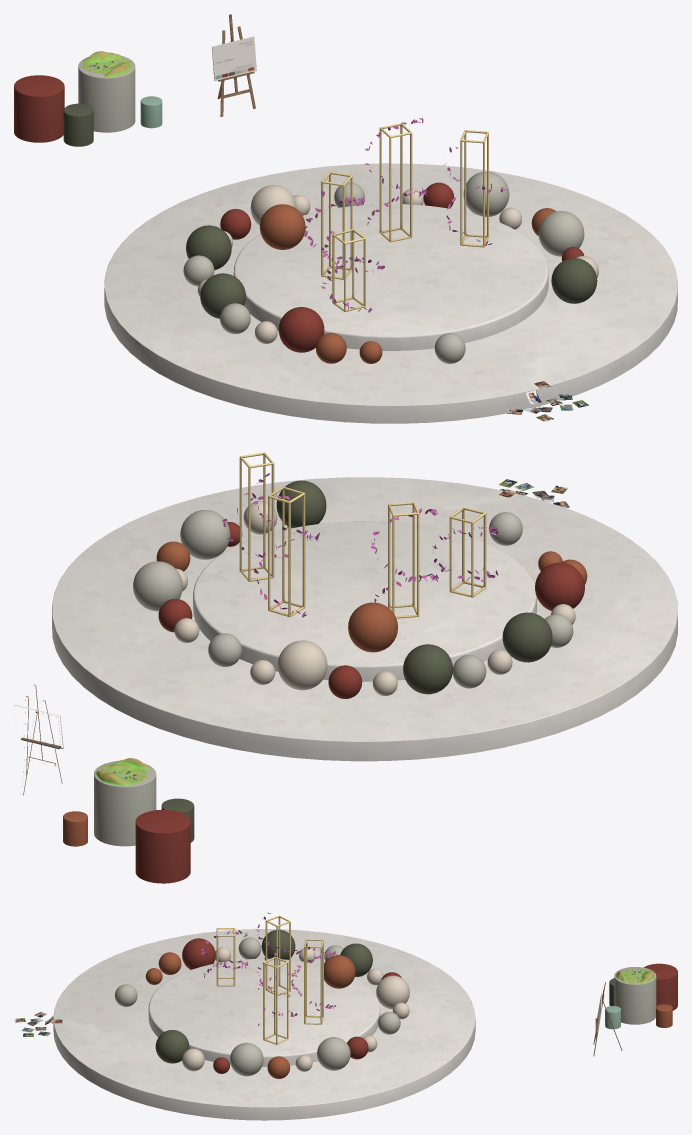
The model's file is VrodeOno-transformed.glb.
The picture shows the model from 3 angles, top to bottom: view 1: azimuth 30°, elevation 25°; view 2: azimuth 150°, elevation 25°; view 3: azimuth 270°, elevation 25°; orthographic projection. The views are drawn at different scales.
Parts seen in each view (by area): view 1: Mainstage.001, Drokino.001, SphereGreen.001, Golden.001, SphereDarkGreen.001, SphereRed.001, SphereOrange.001, SphereNejno.001, Malbert.001, Flowers1.001, Photo1.001; view 2: Mainstage.001, Drokino.001, SphereGreen.001, Golden.001, SphereDarkGreen.001, SphereNejno.001, SphereRed.001, SphereOrange.001, Flowers1.001, Photo1.001; view 3: Mainstage.001, Drokino.001, SphereGreen.001, Golden.001, SphereNejno.001, SphereDarkGreen.001, SphereOrange.001, SphereRed.001, Flowers1.001, Photo1.001.
Part boxes in pixels (x1=…): Mainstage.001: x1=104, y1=14, x2=677, y2=423; Drokino.001: x1=14, y1=51, x2=162, y2=146; SphereGreen.001: x1=183, y1=171, x2=584, y2=363; Golden.001: x1=321, y1=123, x2=488, y2=311; SphereDarkGreen.001: x1=186, y1=225, x2=597, y2=318; SphereRed.001: x1=220, y1=182, x2=584, y2=352; SphereOrange.001: x1=259, y1=204, x2=556, y2=363; SphereNejno.001: x1=197, y1=185, x2=598, y2=343; Malbert.001: x1=212, y1=36, x2=256, y2=80; Flowers1.001: x1=304, y1=118, x2=505, y2=312; Photo1.001: x1=507, y1=381, x2=588, y2=421; Mainstage.001: x1=21, y1=477, x2=677, y2=795; Drokino.001: x1=63, y1=758, x2=194, y2=883; SphereGreen.001: x1=133, y1=510, x2=573, y2=688; Golden.001: x1=239, y1=452, x2=486, y2=618; SphereDarkGreen.001: x1=276, y1=480, x2=552, y2=694; SphereNejno.001: x1=174, y1=501, x2=575, y2=695; SphereRed.001: x1=158, y1=522, x2=584, y2=698; SphereOrange.001: x1=156, y1=541, x2=587, y2=652; Flowers1.001: x1=222, y1=473, x2=498, y2=617; Photo1.001: x1=499, y1=479, x2=569, y2=507; Mainstage.001: x1=53, y1=929, x2=622, y2=1120; Drokino.001: x1=605, y1=963, x2=677, y2=1029; SphereGreen.001: x1=114, y1=937, x2=400, y2=1076; Golden.001: x1=216, y1=915, x2=323, y2=1044; SphereNejno.001: x1=182, y1=947, x2=409, y2=1071; SphereDarkGreen.001: x1=155, y1=929, x2=372, y2=1063; SphereOrange.001: x1=145, y1=952, x2=355, y2=1078; SphereRed.001: x1=182, y1=938, x2=401, y2=1073; Flowers1.001: x1=201, y1=912, x2=336, y2=1025; Photo1.001: x1=14, y1=1012, x2=62, y2=1036.
Size of what is drawn, in the model's own units: 10 by 2.98 by 15.73.
Materials: 11 (11 with a texture image).
